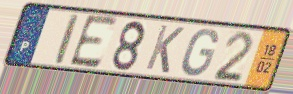2: (212, 29, 256, 83)
8: (111, 19, 146, 72)
E: (66, 12, 121, 71)
G: (179, 27, 220, 78)
I: (53, 12, 81, 67)
K: (142, 23, 186, 76)
